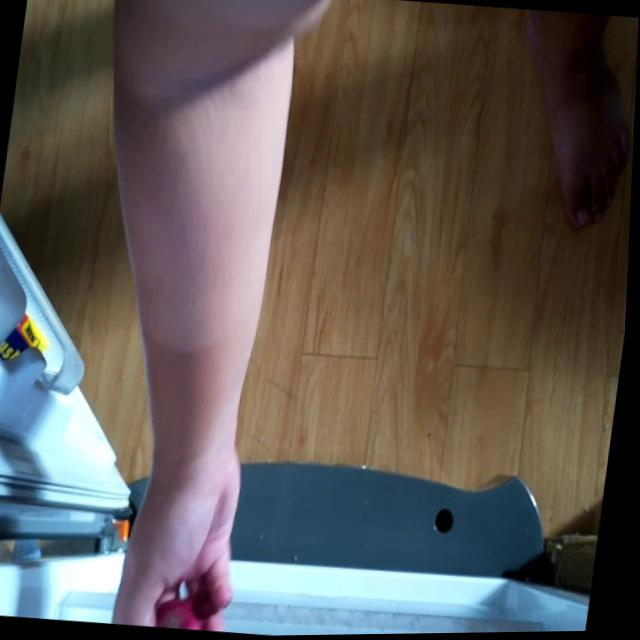onion: (159, 588, 215, 631)
